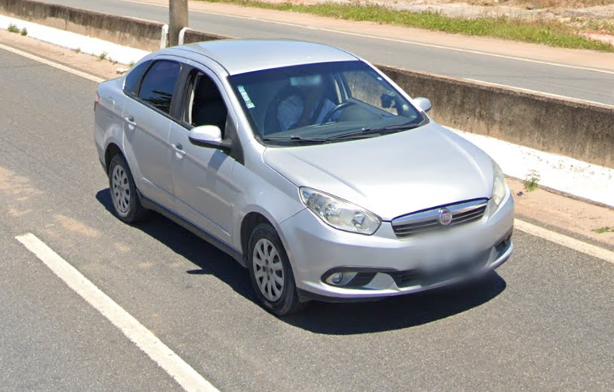car: (91, 33, 517, 317)
